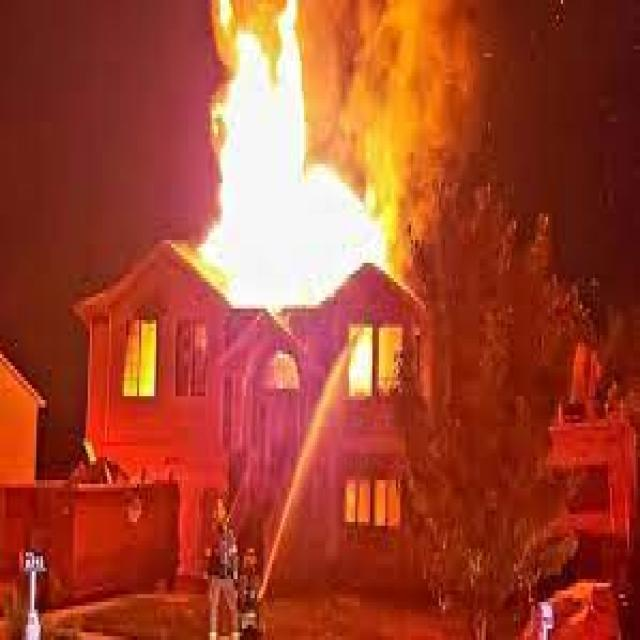Fire: (205, 28, 368, 320)
Smoke: (321, 0, 498, 183)
